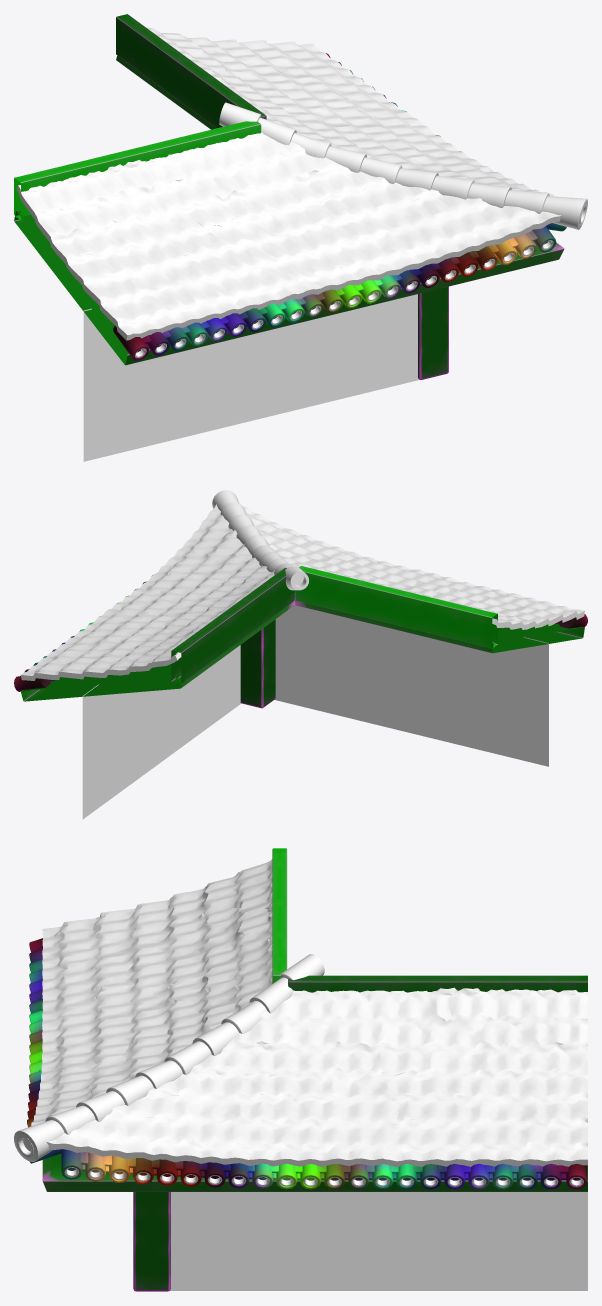
Rendered from roof_fenced_300_01_corner.fbx.
3 views of the same model, one above another, from view 1: azimuth 30°, elevation 25°; view 2: azimuth 150°, elevation 25°; view 3: azimuth 270°, elevation 25° (orthographic). The views are drawn at different scales.
Parts seen in each view (by area): view 1: roof_fenced_300_01_corner; view 2: roof_fenced_300_01_corner; view 3: roof_fenced_300_01_corner.
Boxes of the visible parts, x1=… form: roof_fenced_300_01_corner: x1=14, y1=14, x2=587, y2=461; roof_fenced_300_01_corner: x1=14, y1=490, x2=587, y2=819; roof_fenced_300_01_corner: x1=14, y1=848, x2=587, y2=1291.
Size of the model in its own units: 3.8 by 1.93 by 3.82.
